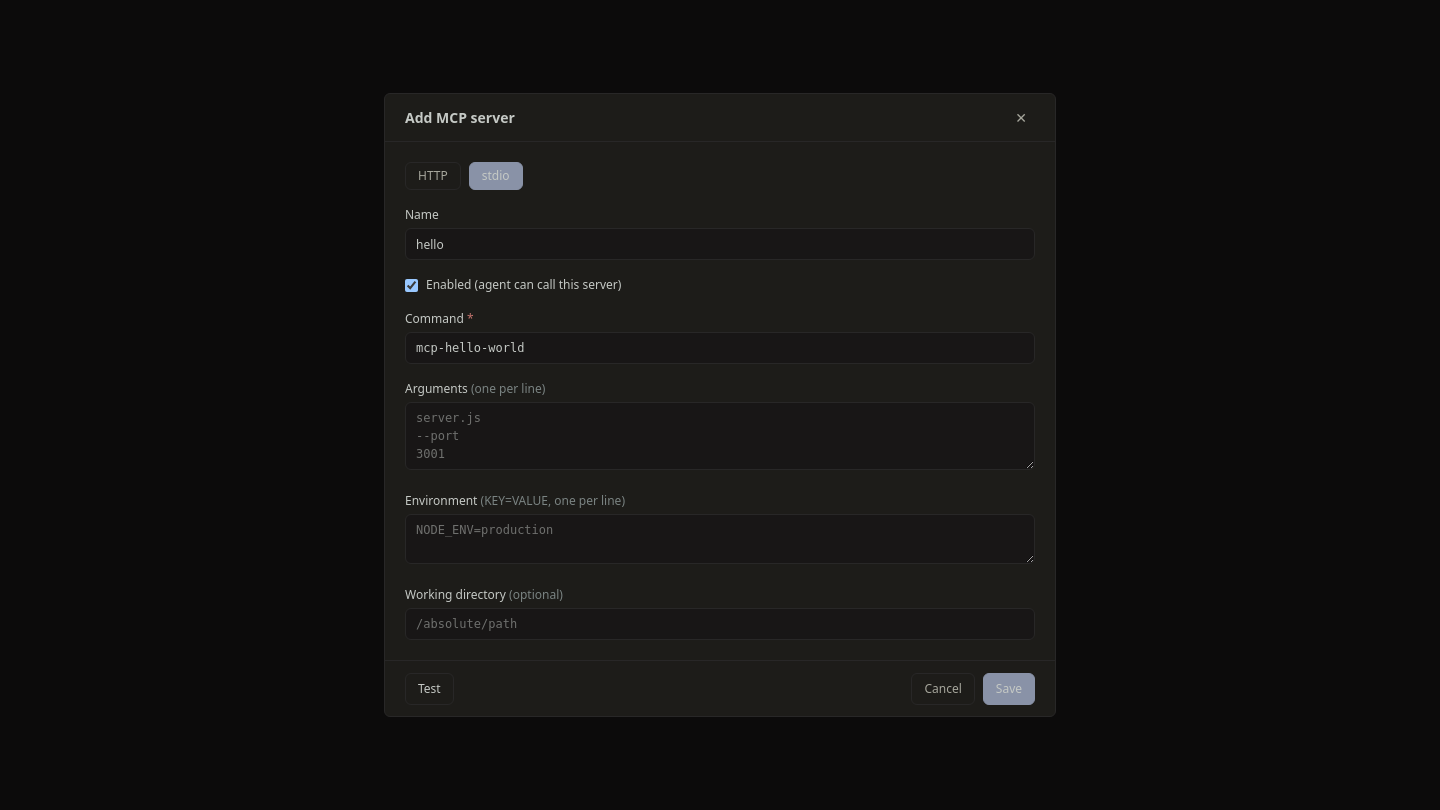
Test: McpServerModal — stdio transport › renders red cross + error message on test failure
The image size is (1440, 810).
Click the button with test id "test-btn". click: (429, 688)
box: [405,672,454,704]
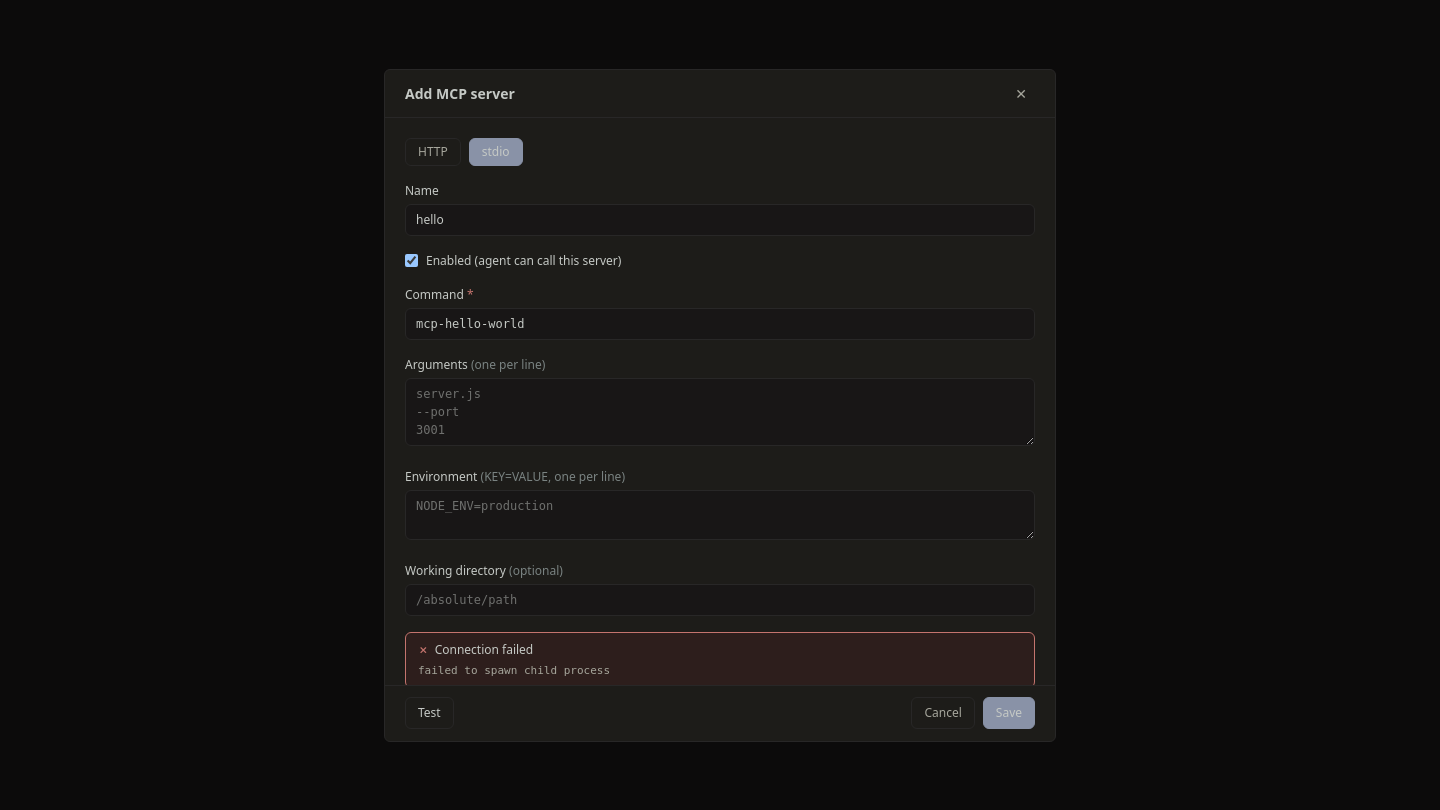
Expected: the element with test id "test-result" is shown, [405,632,1035,684]
Expected: the element with test id "test-result" shows "Connection failed", [435,640,533,658]
Expected: the text with test id "test-error" reads "failed to spawn child process", [418,664,610,676]
